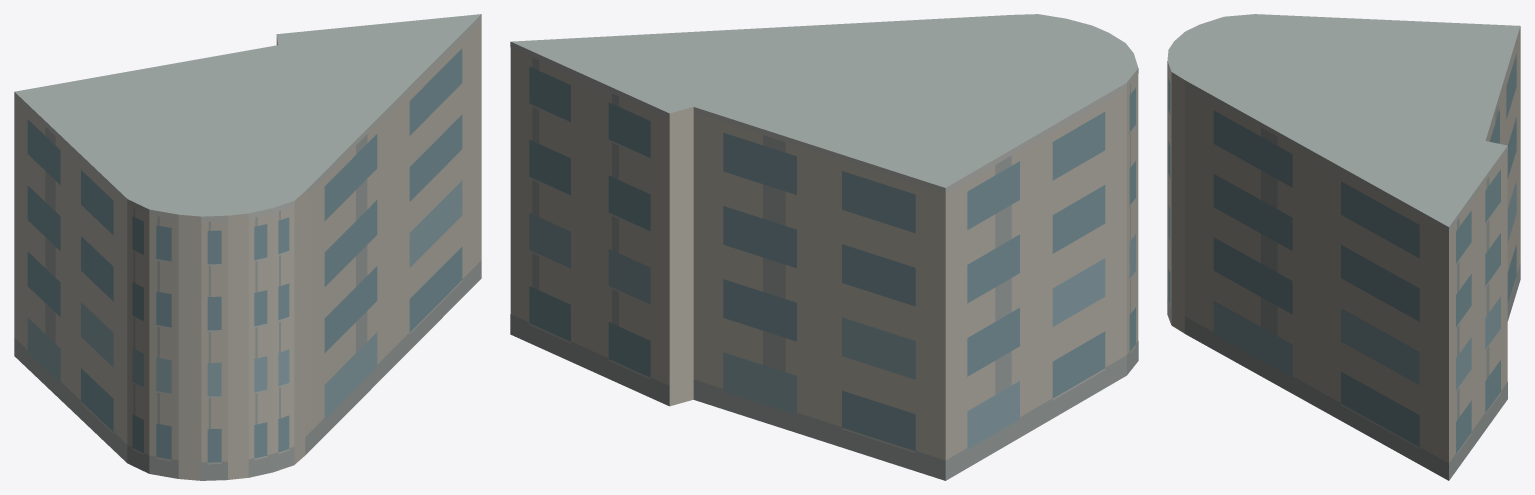
Rendered from residential-9dd09328-08c0-46e4-90c2-e363796aad0d.glb.
3 renders of one model, left to right at view 1: azimuth 30°, elevation 25°; view 2: azimuth 150°, elevation 25°; view 3: azimuth 270°, elevation 25°, orthographic. The views are drawn at different scales.
Parts seen in each view (by area): view 1: residential-9dd09328-08c0-46e4-90c2-e363796aad0d.tmp; view 2: residential-9dd09328-08c0-46e4-90c2-e363796aad0d.tmp; view 3: residential-9dd09328-08c0-46e4-90c2-e363796aad0d.tmp.
Part boxes in pixels (<box>): residential-9dd09328-08c0-46e4-90c2-e363796aad0d.tmp: <box>14,14,481,480</box>; residential-9dd09328-08c0-46e4-90c2-e363796aad0d.tmp: <box>510,14,1138,480</box>; residential-9dd09328-08c0-46e4-90c2-e363796aad0d.tmp: <box>1167,14,1520,480</box>.
Bounding box in the file's own units: 21.99 × 12.2 × 15.4.
